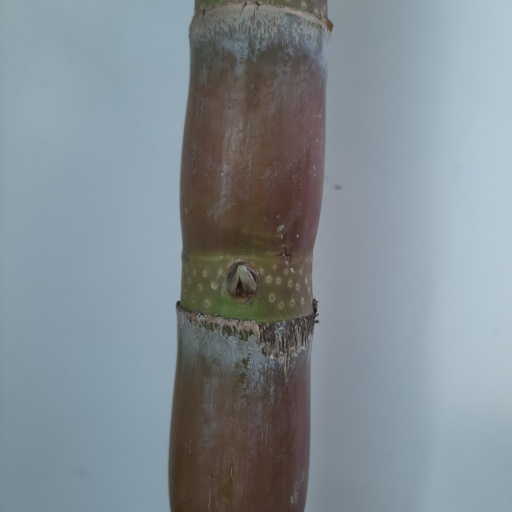Bud: (224, 263, 259, 301)
